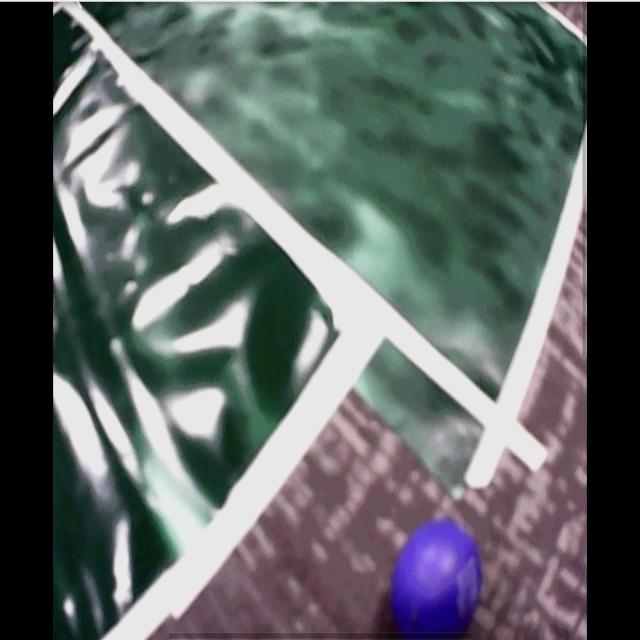ball: (396, 524, 480, 640)
